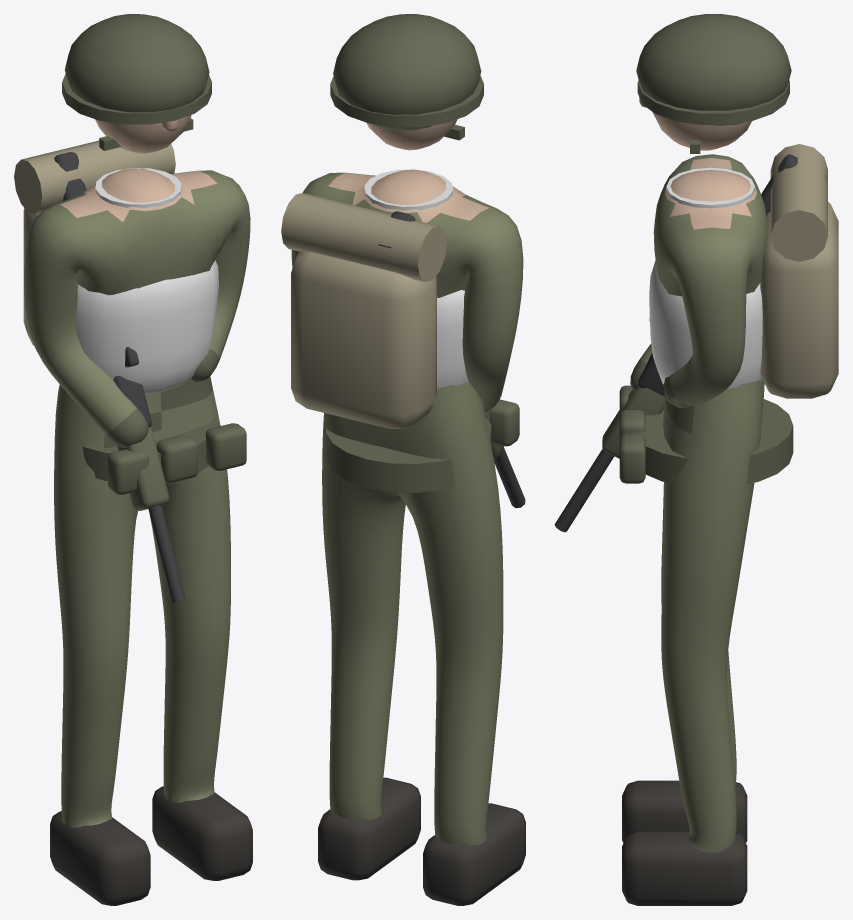
Rendered from rifleman.glb.
3 views of the same model, side by side, from view 1: azimuth 30°, elevation 25°; view 2: azimuth 150°, elevation 25°; view 3: azimuth 270°, elevation 25° (orthographic). The views are drawn at different scales.
Parts seen in each view (by area): view 1: body; view 2: body; view 3: body.
Boxes of the visible parts, x1,y1,x2,y2 form: body: (14, 14, 252, 905); body: (281, 14, 525, 905); body: (554, 14, 838, 905).
Bounding box in the file's own units: 0.482 × 1.8 × 0.5449.
